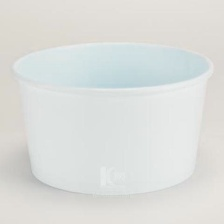paper_cup: (7, 36, 218, 202)
